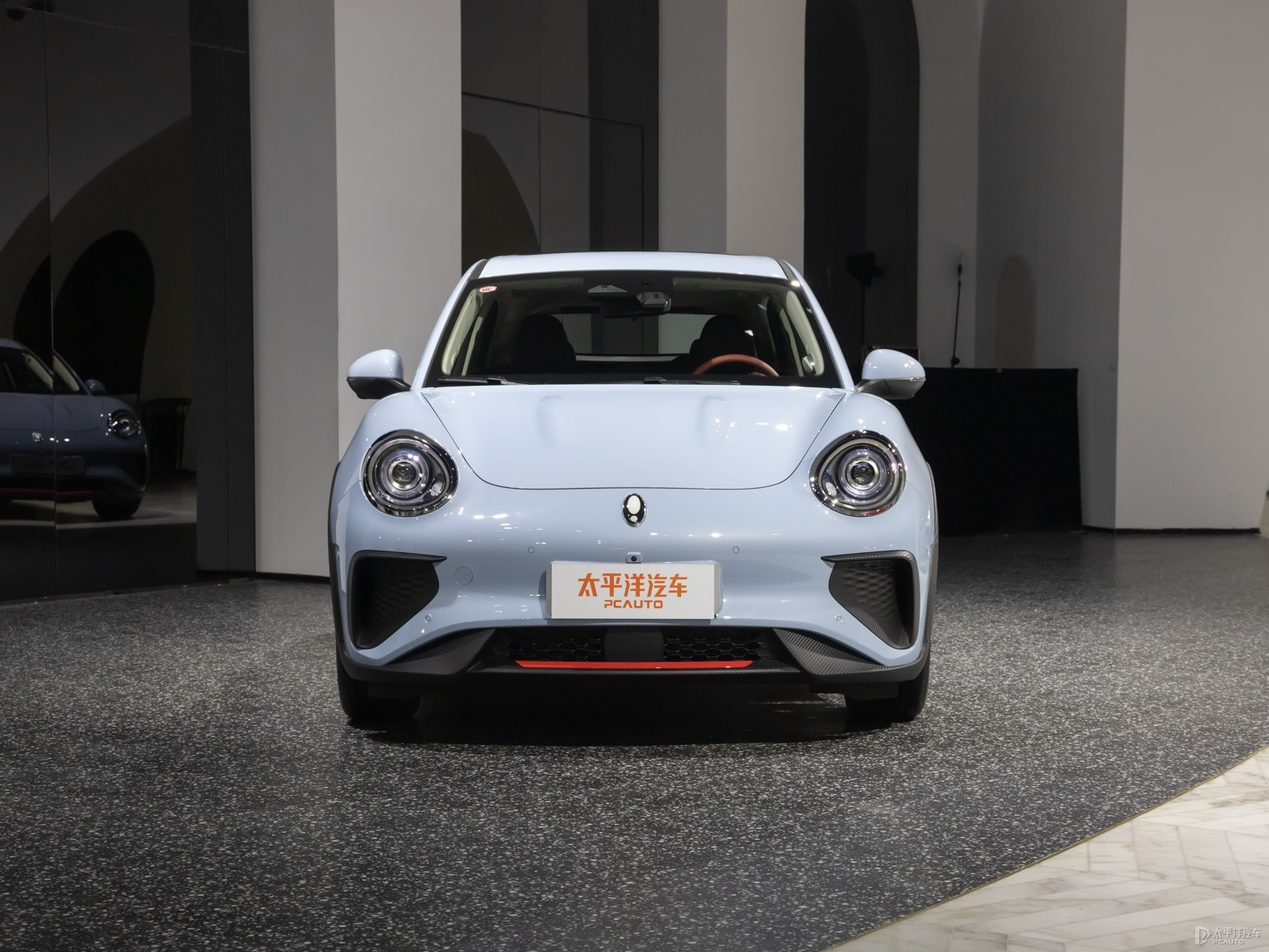ORA: (623, 493, 646, 526)
